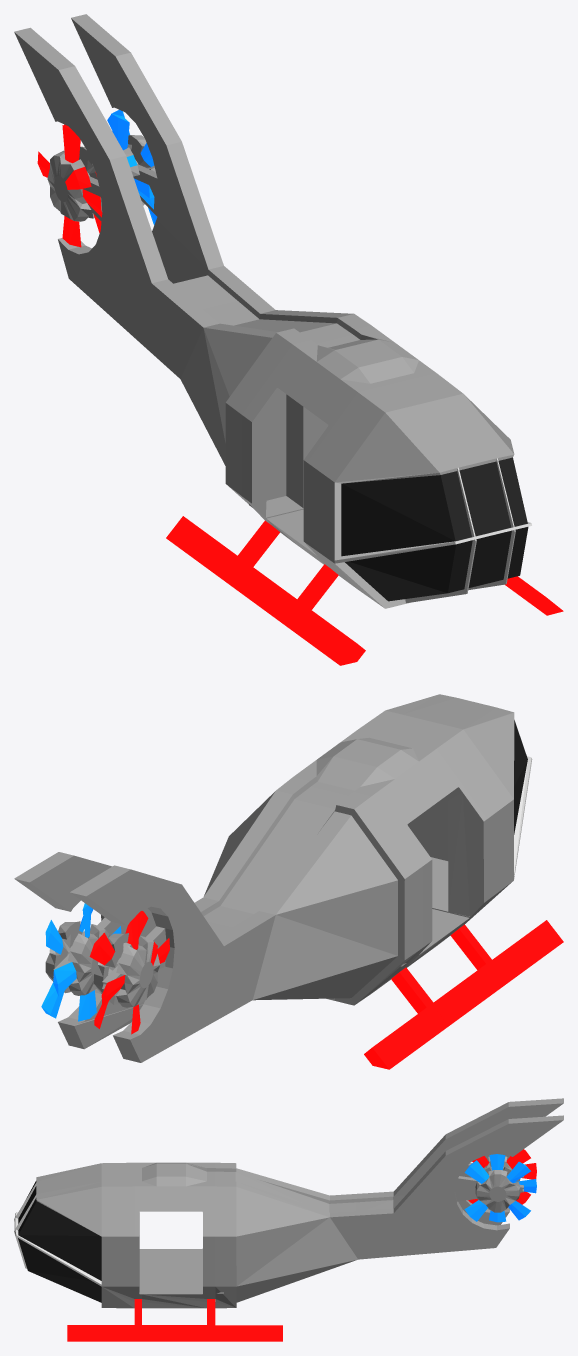
File: Helicopter.fbx
3 views of the same model, one above another, from view 1: azimuth 30°, elevation 25°; view 2: azimuth 150°, elevation 25°; view 3: azimuth 270°, elevation 25° (orthographic). The views are drawn at different scales.
Parts seen in each view (by area): view 1: pCylinder8; view 2: pCylinder8; view 3: pCylinder8.
Boxes of the visible parts, box(x1,y1,x2,y2) form: pCylinder8: box(14, 14, 563, 665); pCylinder8: box(14, 694, 563, 1069); pCylinder8: box(14, 1098, 563, 1341).
Size of the model in its own units: 9.47 by 13.02 by 32.63.
